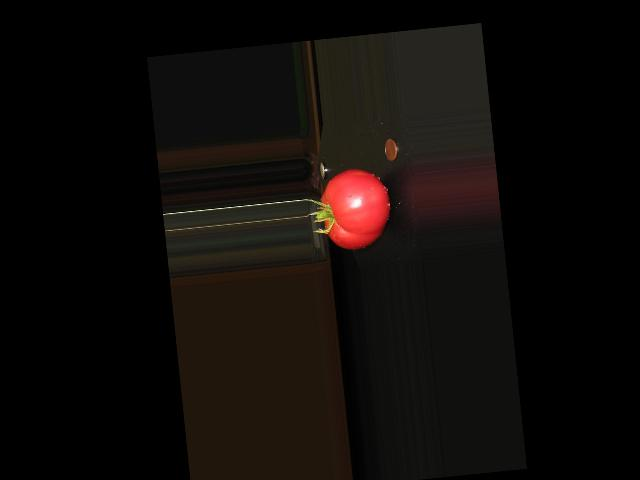tomato: (318, 166, 394, 253)
